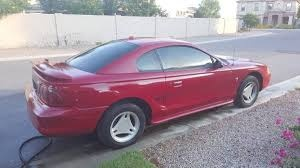Scratch: (97, 89, 123, 94), (158, 103, 168, 114)
